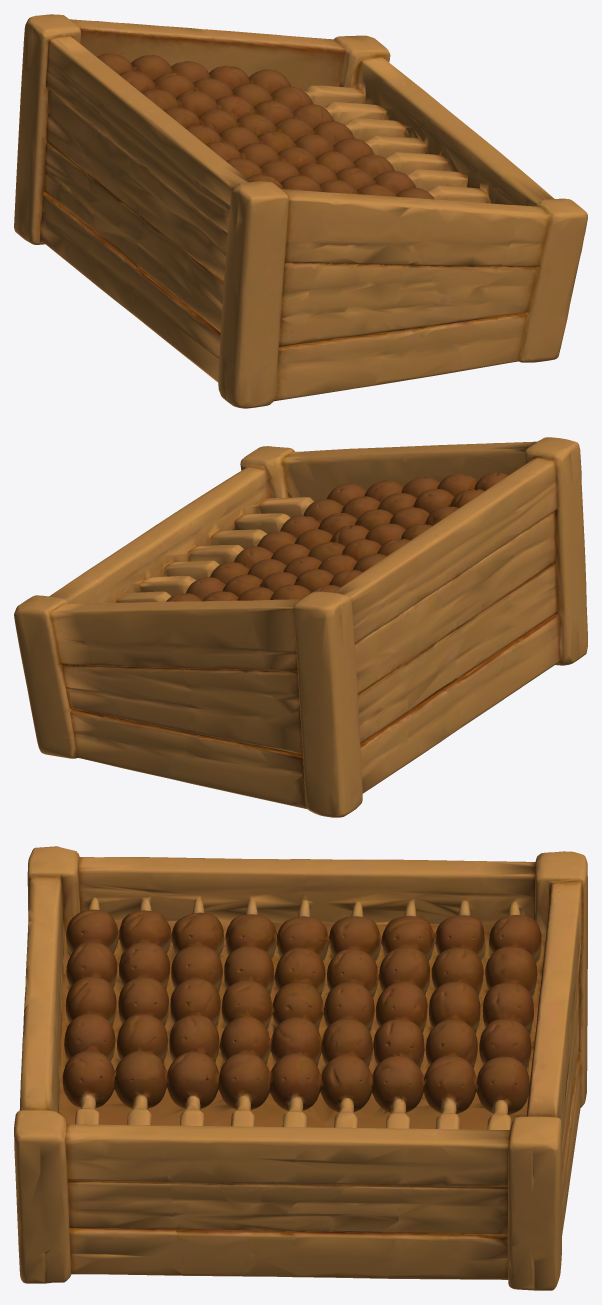
File: crate10.glb
The picture shows the model from 3 angles, top to bottom: view 1: azimuth 30°, elevation 25°; view 2: azimuth 150°, elevation 25°; view 3: azimuth 270°, elevation 25°; orthographic projection. The views are drawn at different scales.
Parts seen in each view (by area): view 1: tripo_node_b69b9252-ae8c-441e-94f3-88dad9963067; view 2: tripo_node_b69b9252-ae8c-441e-94f3-88dad9963067; view 3: tripo_node_b69b9252-ae8c-441e-94f3-88dad9963067.
Part boxes in pixels (x1=…): tripo_node_b69b9252-ae8c-441e-94f3-88dad9963067: x1=14, y1=14, x2=587, y2=408; tripo_node_b69b9252-ae8c-441e-94f3-88dad9963067: x1=14, y1=437, x2=587, y2=817; tripo_node_b69b9252-ae8c-441e-94f3-88dad9963067: x1=14, y1=846, x2=587, y2=1290.
Bounding box in the file's own units: 0.8374 × 0.5198 × 0.9998.
1 material, 1 textured.
